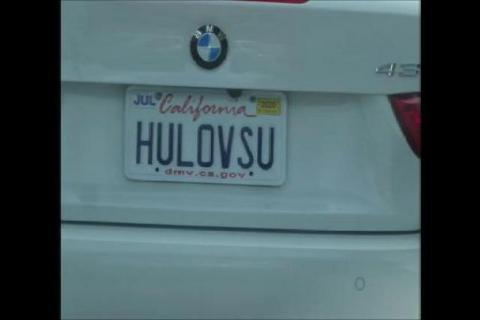LicensePlate: (125, 84, 284, 188)
